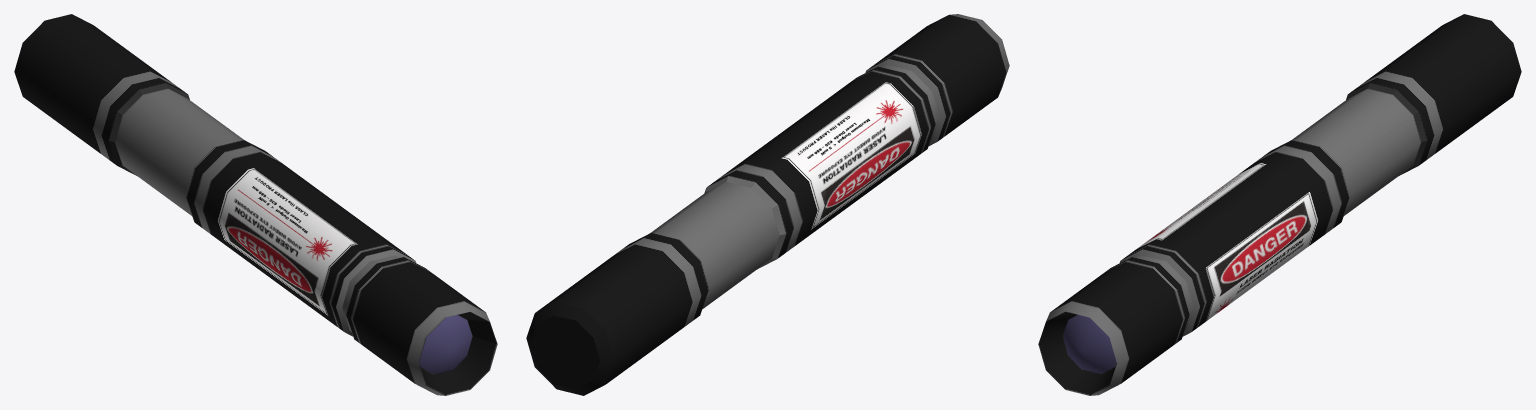
Rendered from Laser Pointer.fbx.
3 renders of one model, left to right at view 1: azimuth 30°, elevation 25°; view 2: azimuth 150°, elevation 25°; view 3: azimuth 330°, elevation 25°, orthographic.
Visible parts, largest first — view 1: Laser_Pointer; view 2: Laser_Pointer; view 3: Laser_Pointer.
Part boxes in pixels (<box>): Laser_Pointer: <box>14,14,497,395</box>; Laser_Pointer: <box>526,14,1009,395</box>; Laser_Pointer: <box>1038,14,1521,395</box>.
Bounding box in the file's own units: 2 × 1.9 × 15.97.
